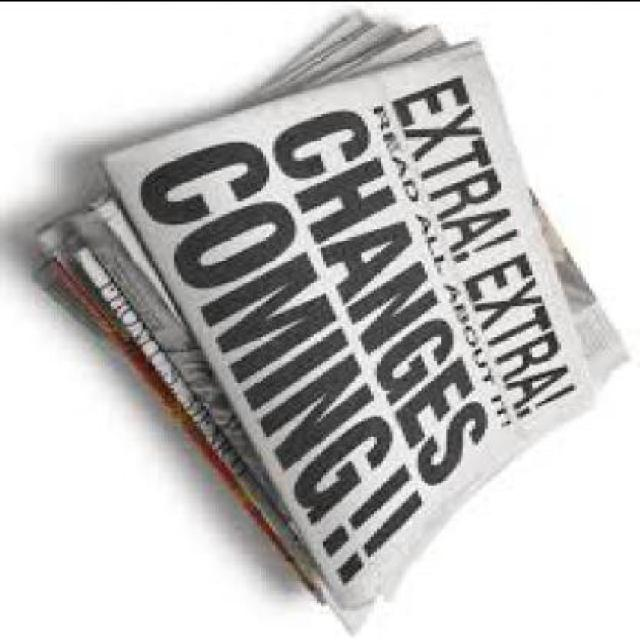PAPER: (85, 23, 633, 629), (101, 36, 605, 604), (38, 15, 405, 630), (32, 9, 374, 338)
